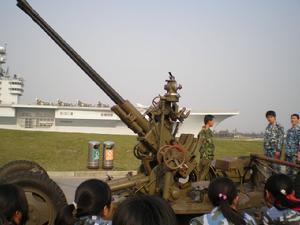MIL_SPG: (18, 0, 197, 200)
